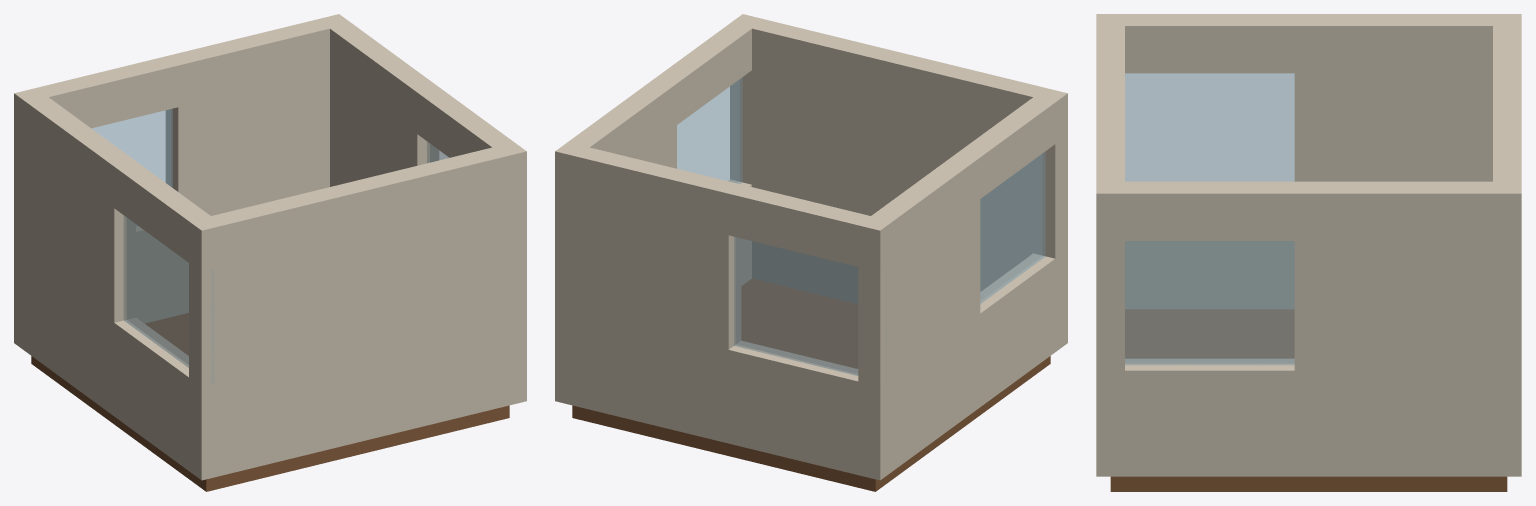
Rendered from cuspide-torreta.glb.
3 views of the same model, side by side, from view 1: azimuth 30°, elevation 25°; view 2: azimuth 150°, elevation 25°; view 3: azimuth 270°, elevation 25° (orthographic). The views are drawn at different scales.
Visible parts, largest first — view 1: cuspide-torreta-muros, cuspide-torreta-vanos, cuspide-torreta-vidrios, cuspide-torreta-suelos; view 2: cuspide-torreta-muros, cuspide-torreta-vanos, cuspide-torreta-vidrios, cuspide-torreta-suelos; view 3: cuspide-torreta-muros, cuspide-torreta-vanos, cuspide-torreta-vidrios, cuspide-torreta-suelos.
Part boxes in pixels (box(x1,y1,x2,y2)): cuspide-torreta-muros: box(14, 14, 526, 480); cuspide-torreta-vanos: box(14, 51, 526, 479); cuspide-torreta-vidrios: box(91, 109, 449, 383); cuspide-torreta-suelos: box(31, 313, 509, 491); cuspide-torreta-muros: box(555, 14, 1067, 480); cuspide-torreta-vanos: box(654, 14, 1067, 479); cuspide-torreta-vidrios: box(677, 77, 1045, 380); cuspide-torreta-suelos: box(572, 278, 1050, 491); cuspide-torreta-muros: box(1096, 14, 1521, 476); cuspide-torreta-vanos: box(1096, 14, 1521, 476); cuspide-torreta-vidrios: box(1125, 73, 1294, 365); cuspide-torreta-suelos: box(1110, 309, 1507, 491).
Bounding box in the file's own units: 3.27 × 2.58 × 3.27.
